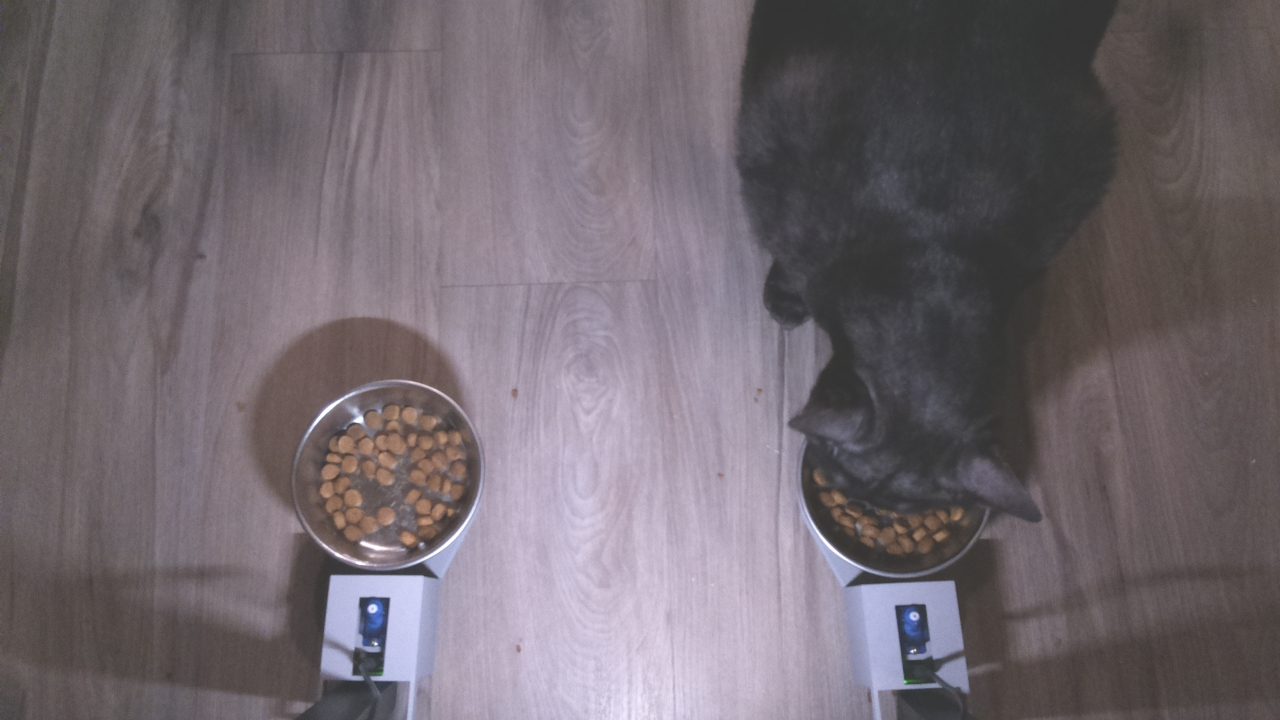open_bowl: (283, 375, 489, 578)
saki_eating: (776, 332, 1057, 564)
